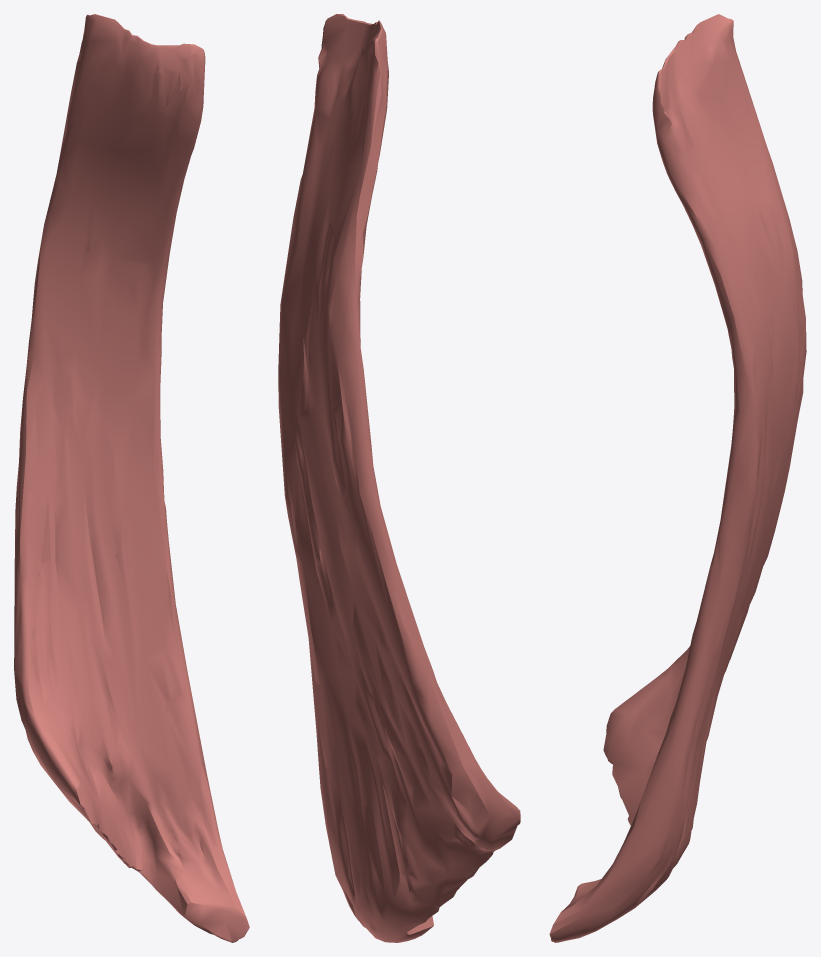
File: fma13346_fj1596.glb
The picture shows the model from 3 angles, left to right: view 1: azimuth 30°, elevation 25°; view 2: azimuth 150°, elevation 25°; view 3: azimuth 270°, elevation 25°; orthographic projection. The views are drawn at different scales.
Parts seen in each view (by area): view 1: FMA13346_FJ1596; view 2: FMA13346_FJ1596; view 3: FMA13346_FJ1596.
Boxes of the visible parts, x1=… form: FMA13346_FJ1596: x1=14, y1=14, x2=249, y2=942; FMA13346_FJ1596: x1=278, y1=14, x2=520, y2=942; FMA13346_FJ1596: x1=549, y1=14, x2=806, y2=942.
Bounding box in the file's own units: 0.0225 × 0.1156 × 0.0299.
